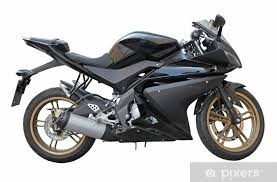motorbike: (14, 12, 266, 163)
